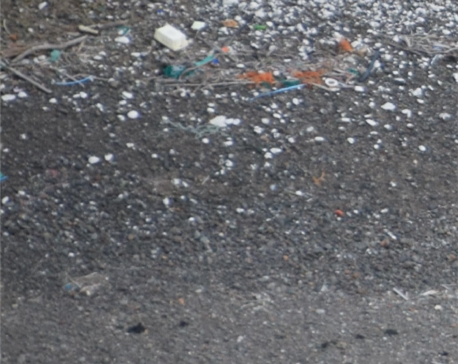together_barrel: (42, 14, 395, 100)
white_in_green: (145, 90, 245, 167)
